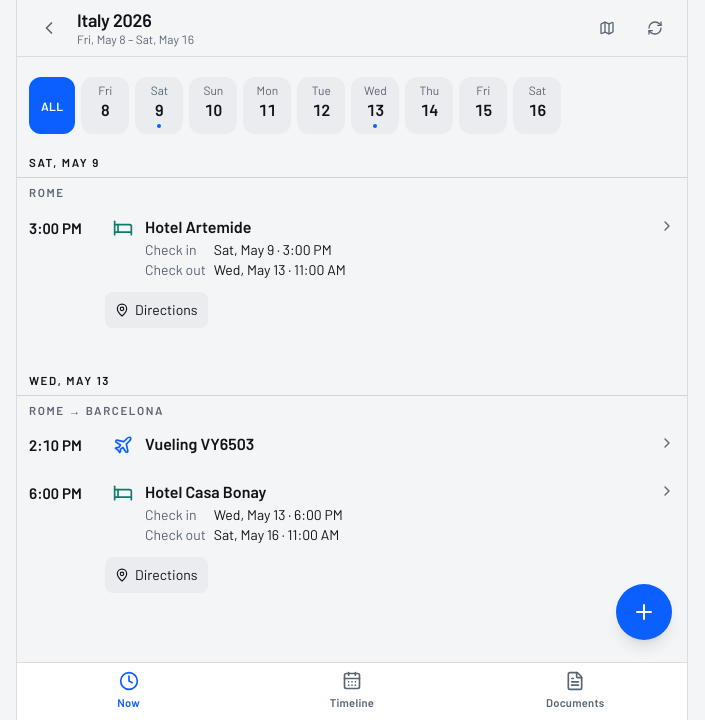
the timeline day strip › narrows to one day when its chip is tapped
This screenshot has width=705, height=720.
Click the button with aria-label "Show Wed, May 13": (375, 106) [351,77,399,134]
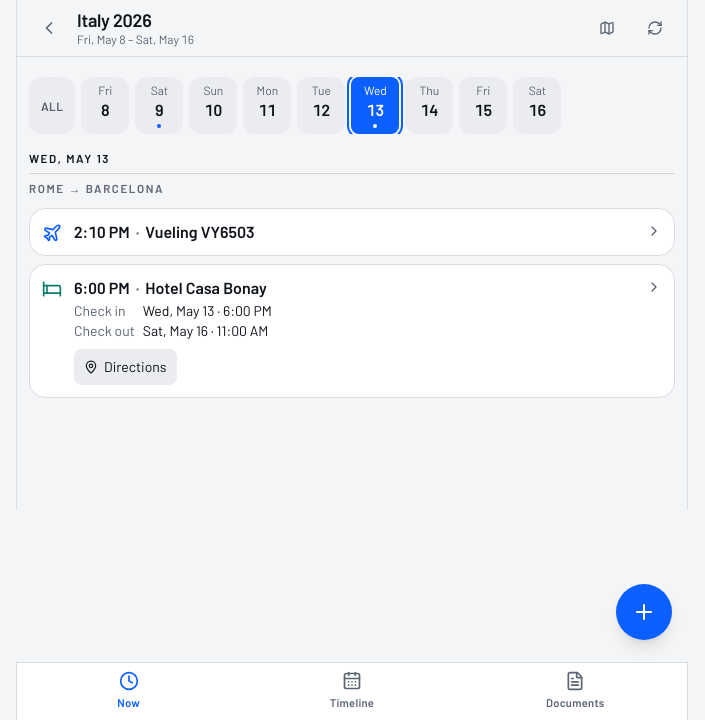
Expected: the text "Vueling VY6503" is shown, [145,222,255,240]
Expected: the link "Hotel Artemide" is gone
